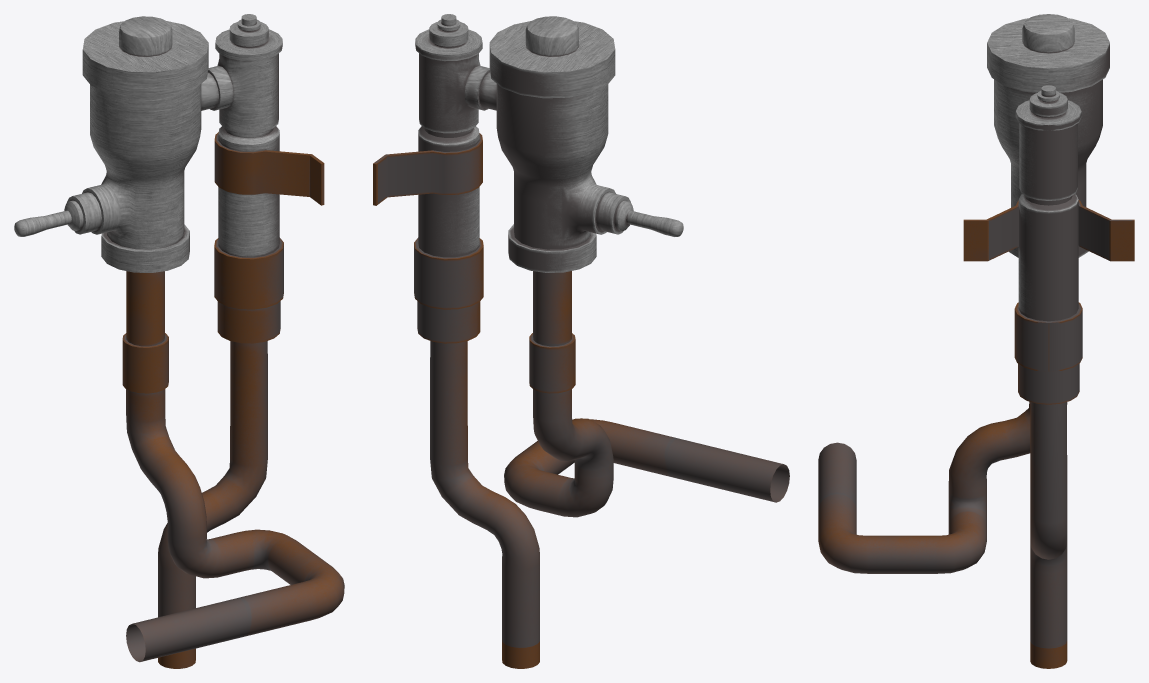
Rendered from SM_Toilet_Button.fbx.
The picture shows the model from 3 angles, left to right: view 1: azimuth 30°, elevation 25°; view 2: azimuth 150°, elevation 25°; view 3: azimuth 270°, elevation 25°; orthographic projection. The views are drawn at different scales.
Parts seen in each view (by area): view 1: SM_Toilet_Button; view 2: SM_Toilet_Button; view 3: SM_Toilet_Button.
Boxes of the visible parts, x1,y1,x2,y2 form: SM_Toilet_Button: [14, 14, 344, 668]; SM_Toilet_Button: [373, 14, 789, 668]; SM_Toilet_Button: [818, 14, 1134, 668].
Size of the model in its own units: 37 by 39.59 by 86.04.
1 material, 1 textured.
